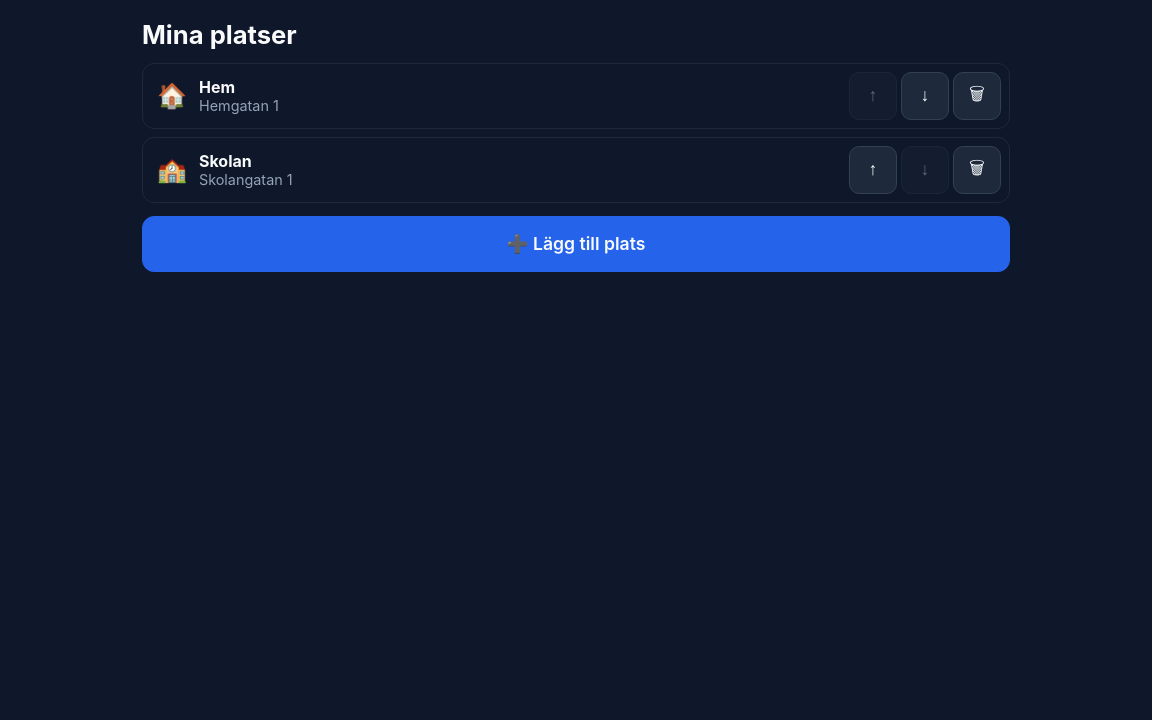
Scenario: Places page › reorders with move buttons (PUT /order) and deletes after confirm
Click the button named "Flytta upp Skolan" at (873, 170), box x1=849 y1=146 x2=897 y2=194
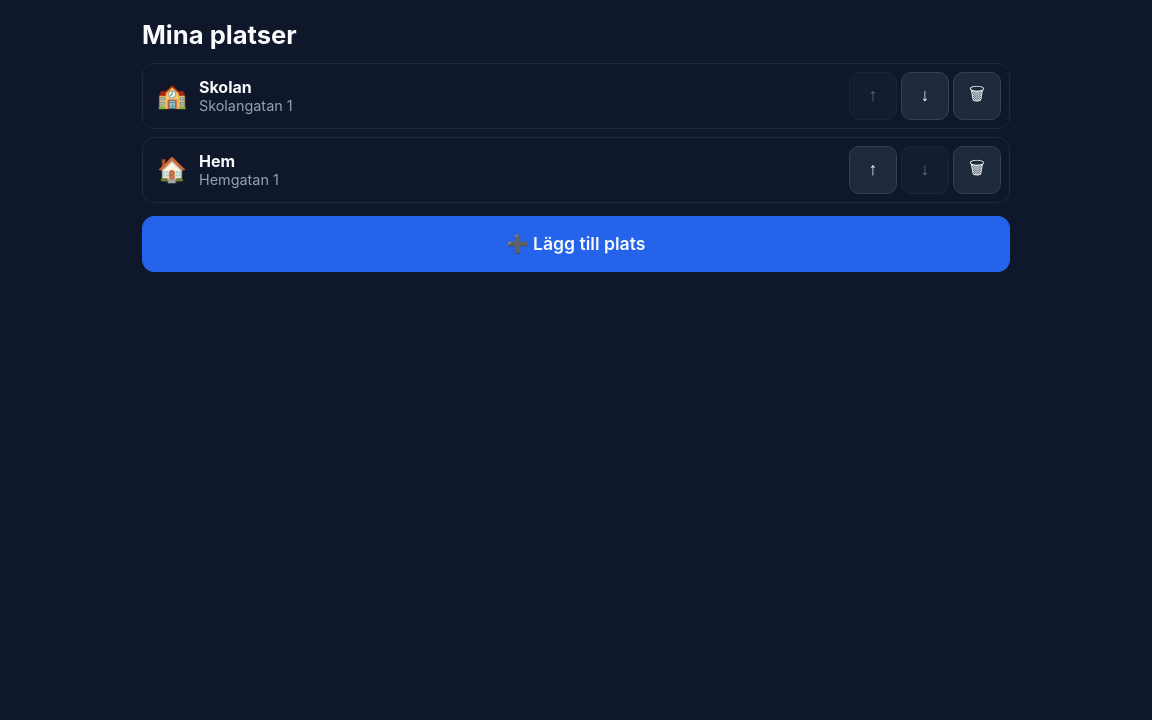
Expected: the 1st list item shows "Skolan", x1=151 y1=68 x2=841 y2=124
Click the button named "Ta bort Hem" at (977, 170), box x1=953 y1=146 x2=1001 y2=194
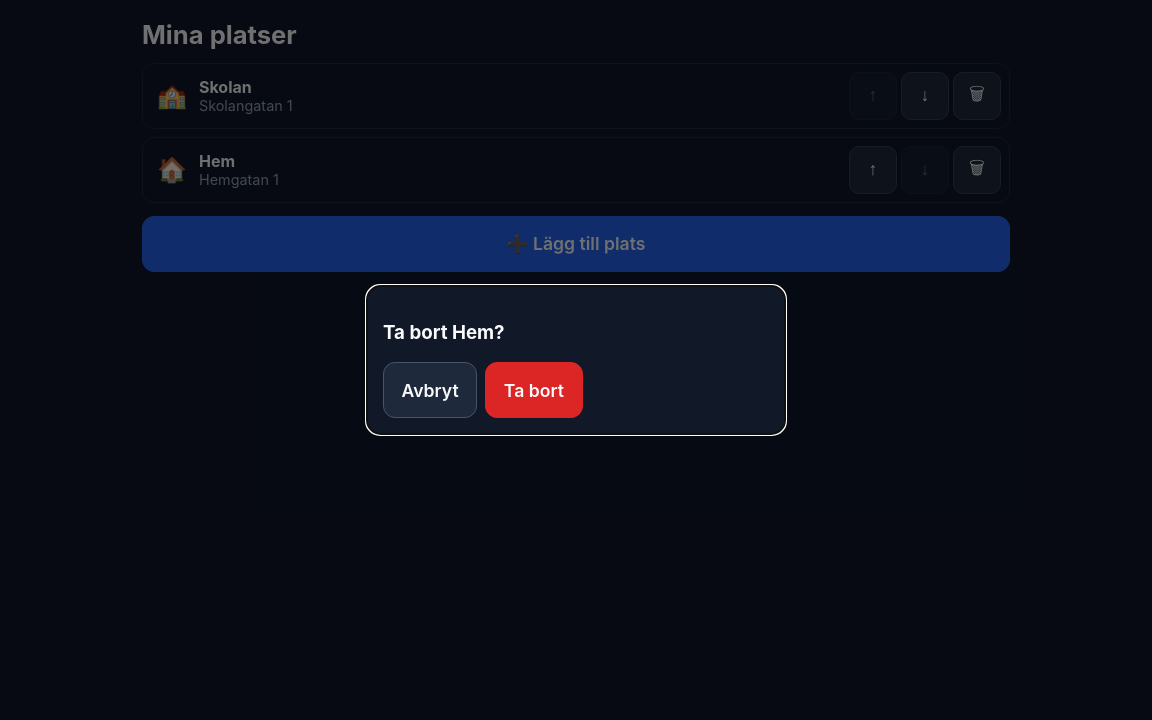
Click the button "Ta bort" at (534, 390), box x1=485 y1=362 x2=583 y2=418
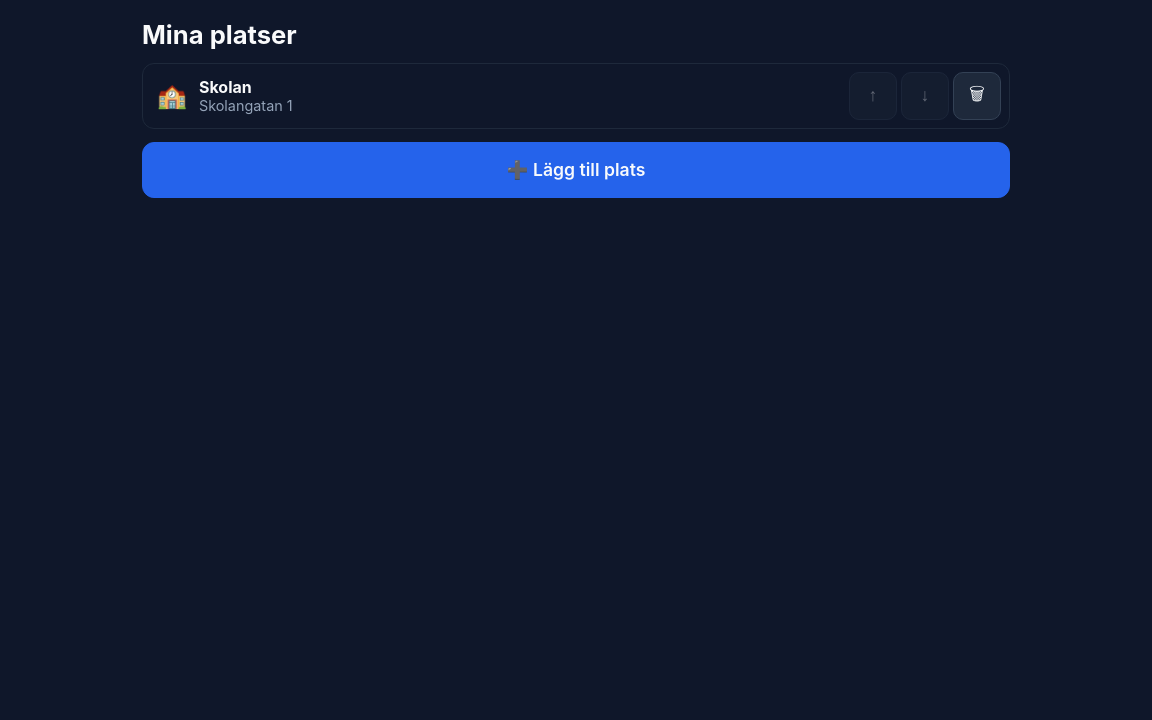
Now the button "Hem" is gone
